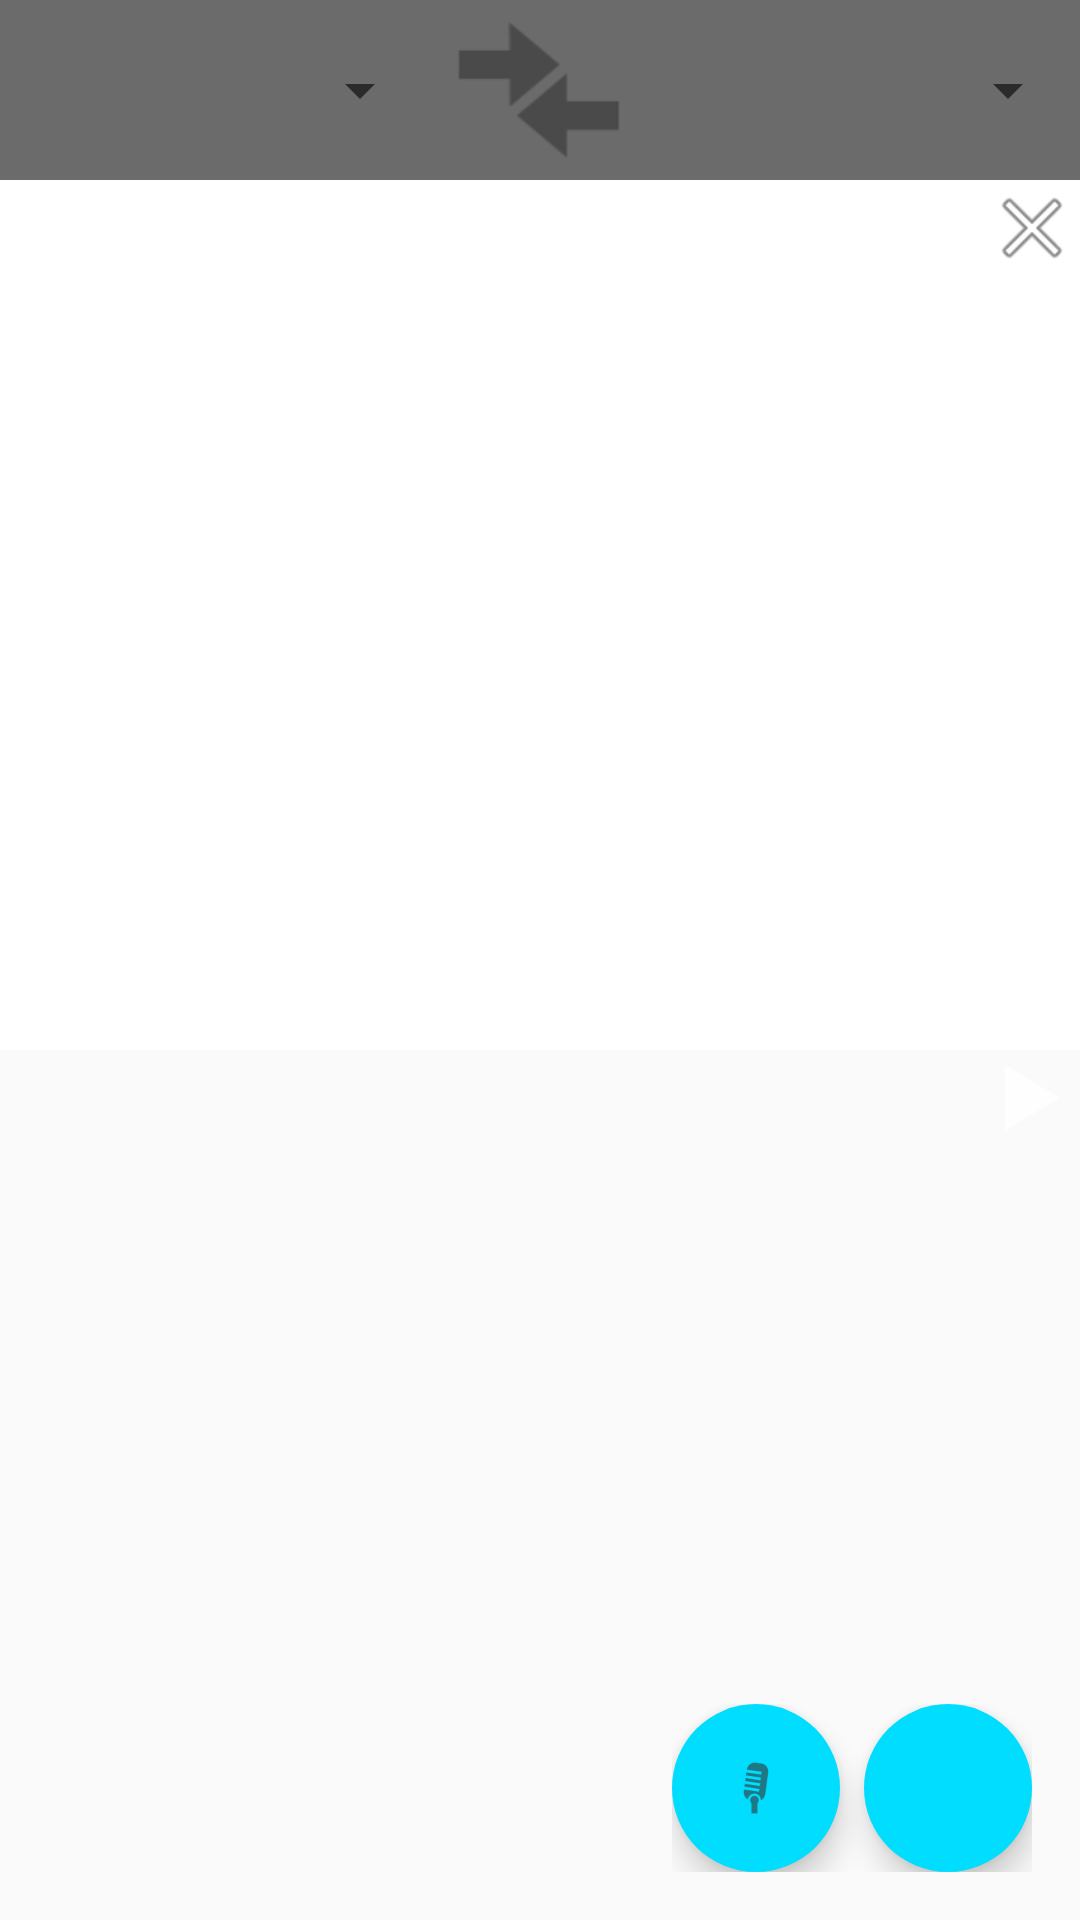

Locate icon controls on the screen. Image size 1080 × 1920, boxes as (x1, y1, x2, y2).
close clear cancel: (1002, 198, 1062, 258)
microphone: (672, 1704, 840, 1872)
